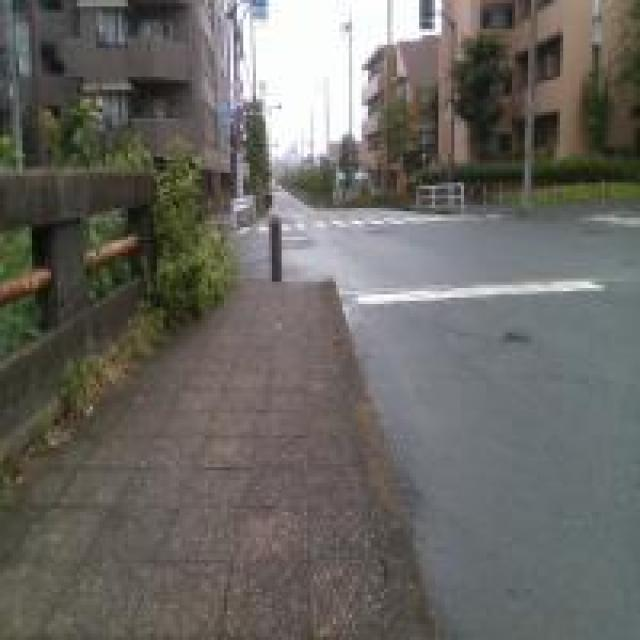Obstacle: (271, 213, 281, 281)
Road: (272, 191, 639, 639), (240, 219, 268, 278)
Sidewalk: (0, 278, 435, 639)
